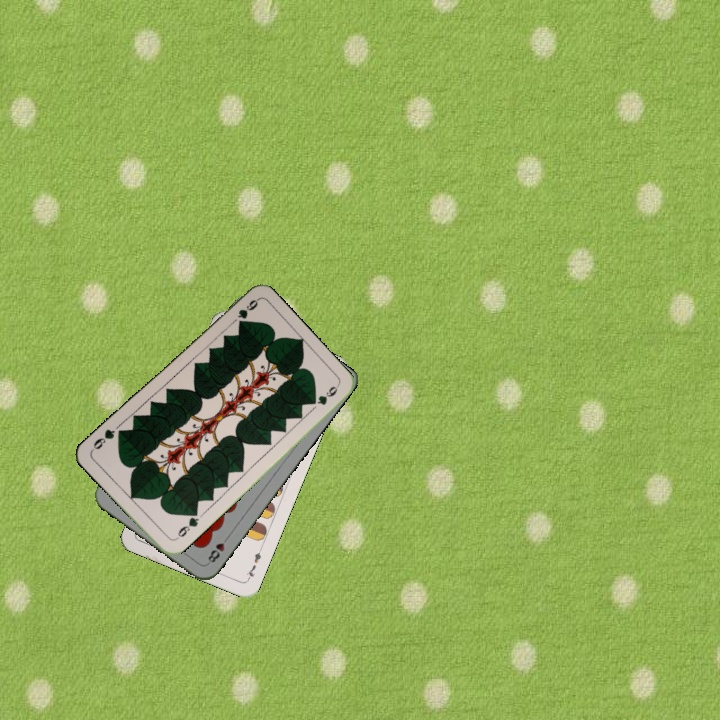E7: (242, 544, 265, 583)
G9: (170, 508, 202, 543), (234, 295, 260, 328)
H8: (203, 532, 232, 567)
